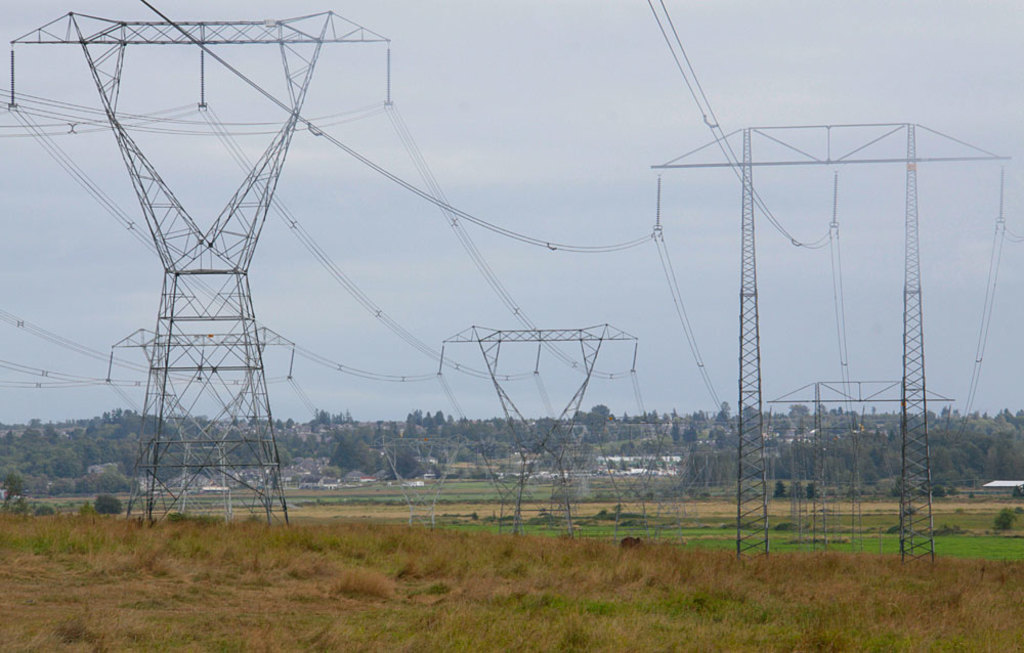Tree: (0, 405, 1024, 515)
